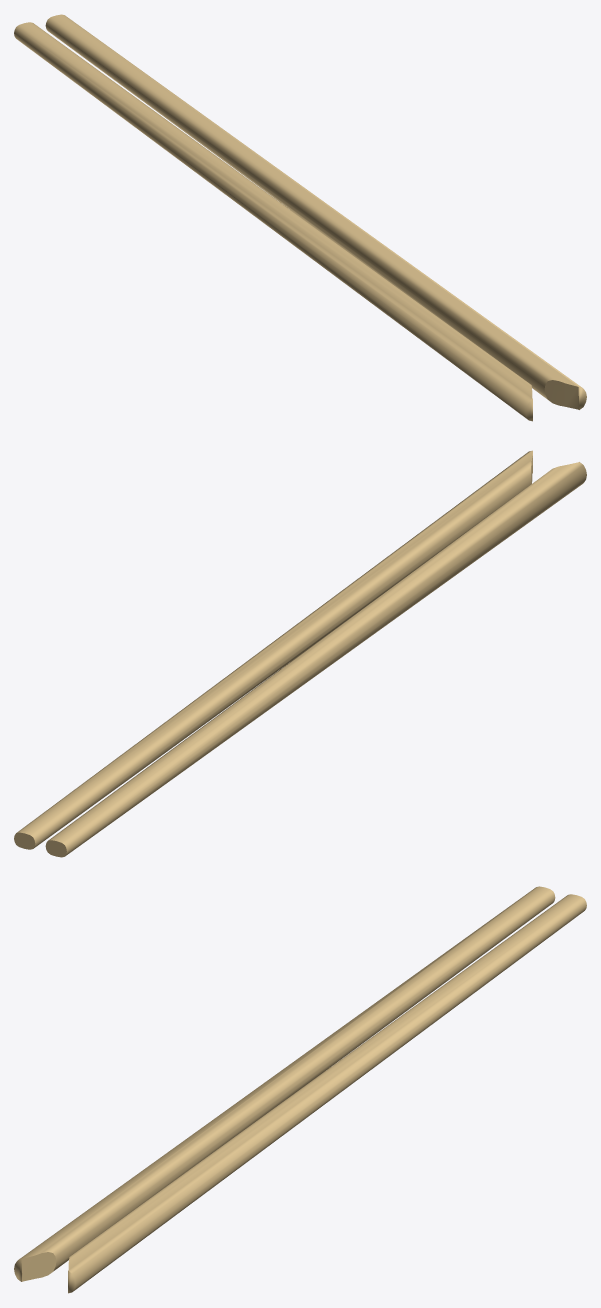
Rendered from baguettes.obj.
3 renders of one model, top to bottom at view 1: azimuth 30°, elevation 25°; view 2: azimuth 150°, elevation 25°; view 3: azimuth 330°, elevation 25°, orthographic.
Visible parts, largest first — view 1: baguette_droite, baguette_gauche; view 2: baguette_gauche, baguette_droite; view 3: baguette_gauche, baguette_droite.
Part boxes in pixels (x1,y1,x2,y2): baguette_droite: (45, 14, 586, 409); baguette_gauche: (14, 22, 532, 421); baguette_gauche: (45, 462, 586, 857); baguette_droite: (14, 450, 532, 849); baguette_gauche: (14, 886, 555, 1281); baguette_droite: (68, 894, 586, 1293).
Size of the model in its own units: 1.45 by 0.5507 by 21.
